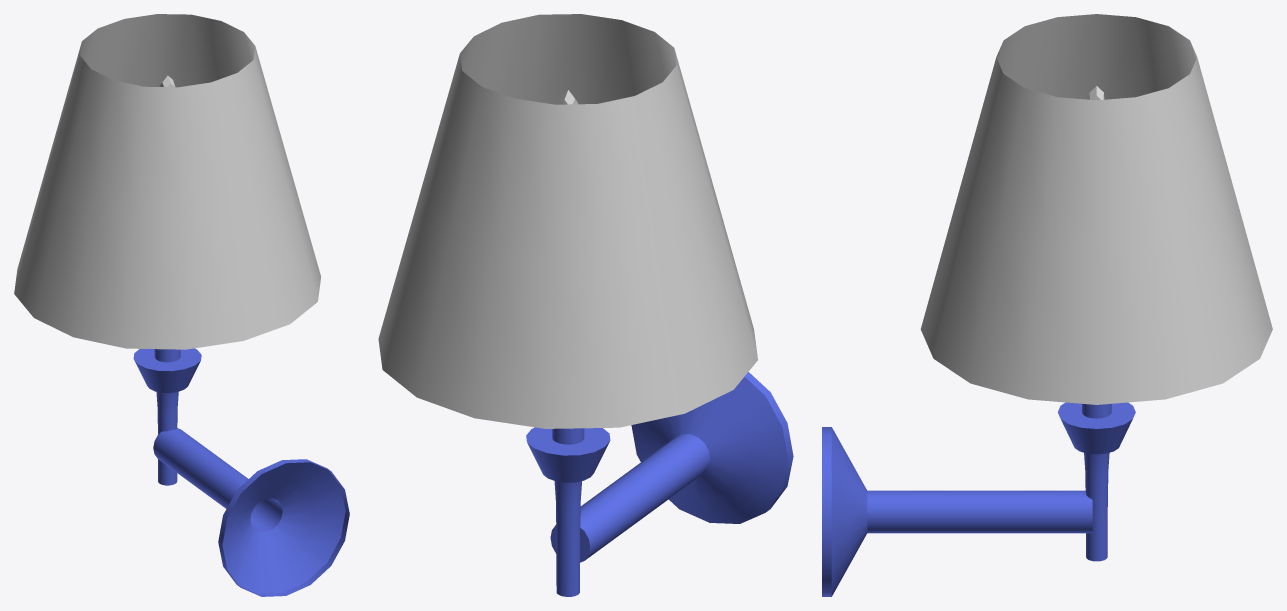
Rendered from model_light_lamp_01.fbx.
3 views of the same model, side by side, from view 1: azimuth 30°, elevation 25°; view 2: azimuth 150°, elevation 25°; view 3: azimuth 270°, elevation 25° (orthographic). The views are drawn at different scales.
Visible parts, largest first — view 1: Cube.008; view 2: Cube.008; view 3: Cube.008.
Part boxes in pixels (left/top/right/bottom): Cube.008: left=14, top=14, right=349, bottom=596; Cube.008: left=378, top=14, right=793, bottom=596; Cube.008: left=822, top=14, right=1272, bottom=596.
Size of the model in its own units: 37.28 by 61.08 by 46.94.
